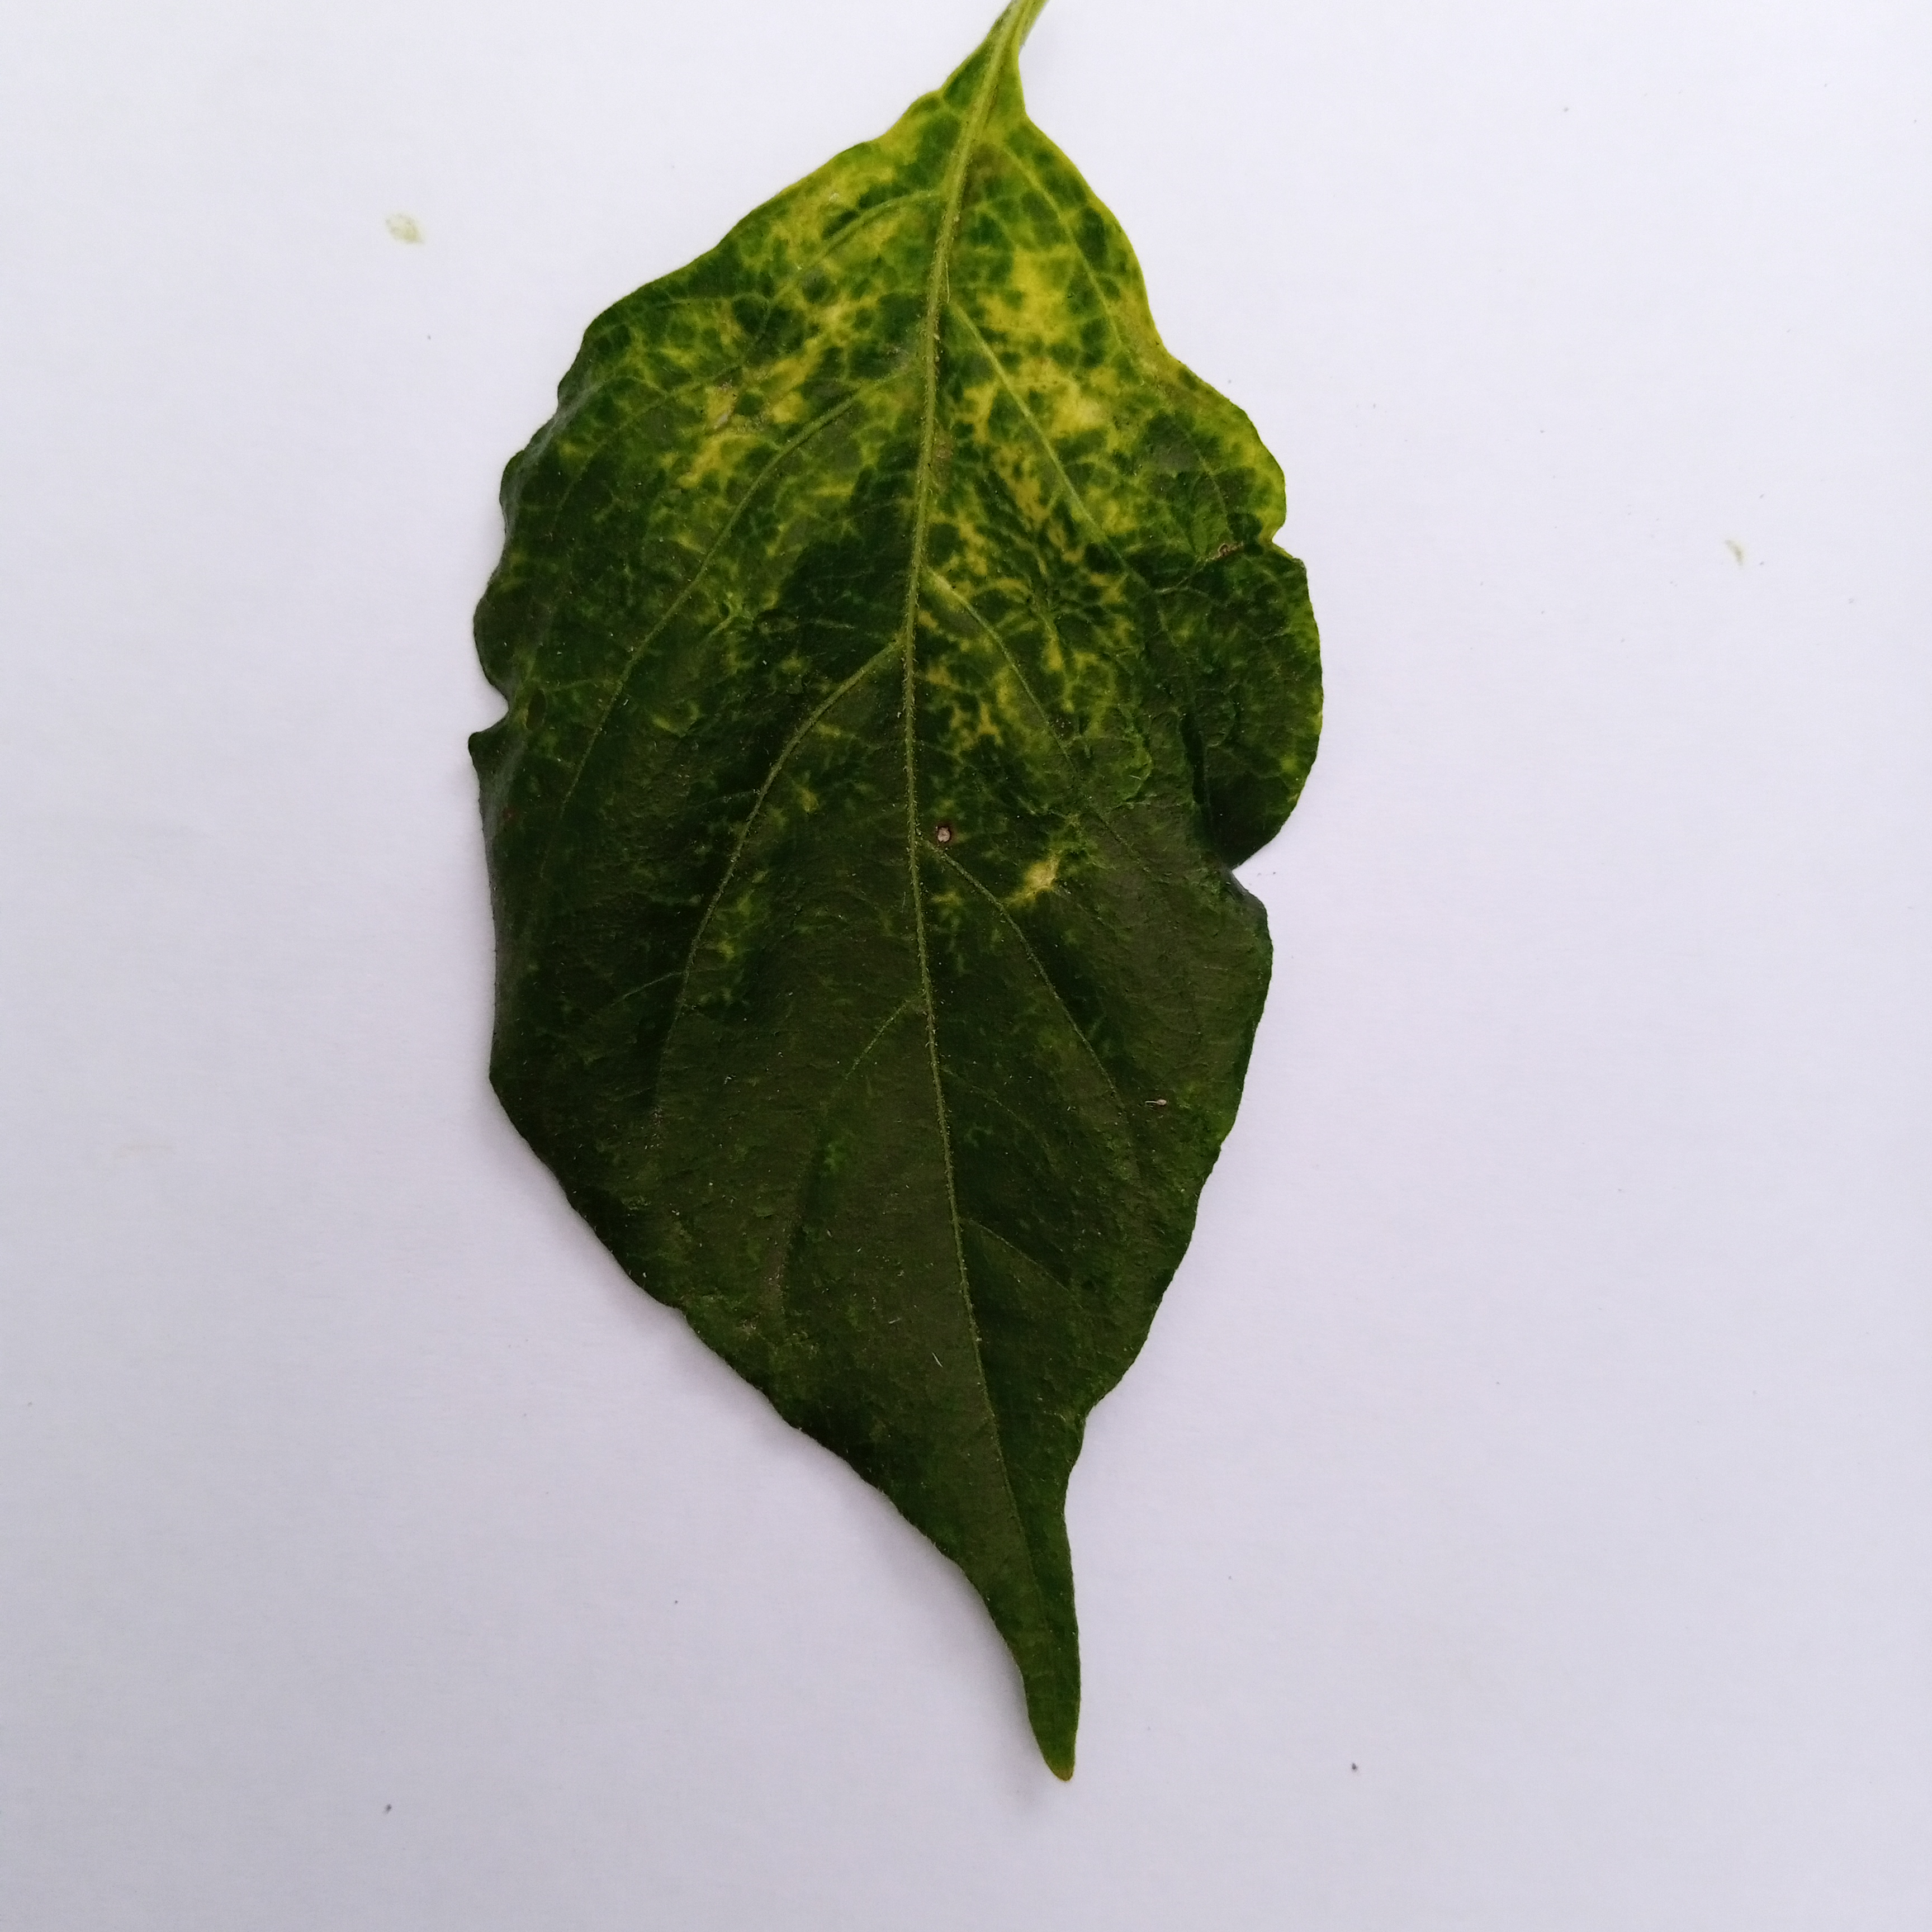Leaf: (324, 83, 1460, 1815)
